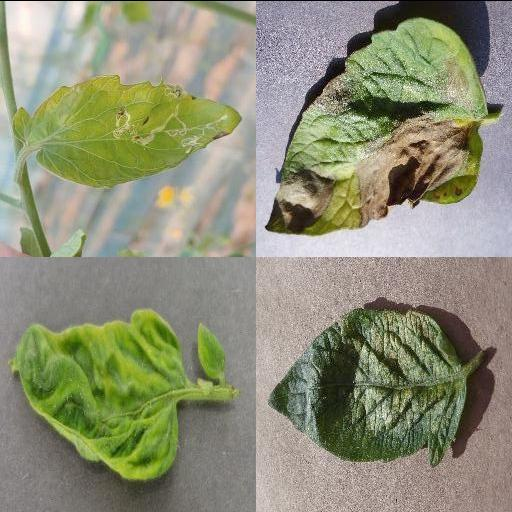Late Blight: (262, 15, 488, 235)
Leaf Miner: (12, 73, 242, 187)
Spider Mites: (267, 306, 467, 468)
Yellow Leaf Curl Virus: (8, 308, 192, 482), (196, 318, 228, 378)
